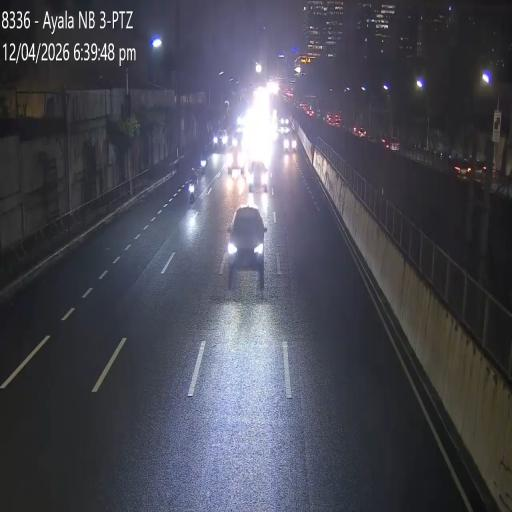Car: (230, 208, 264, 282), (247, 159, 269, 193), (279, 118, 297, 153), (228, 144, 246, 177), (214, 129, 228, 150), (234, 128, 244, 151)
Motor: (187, 164, 197, 204), (198, 156, 206, 174)
Not Accident: (229, 132, 244, 174)
